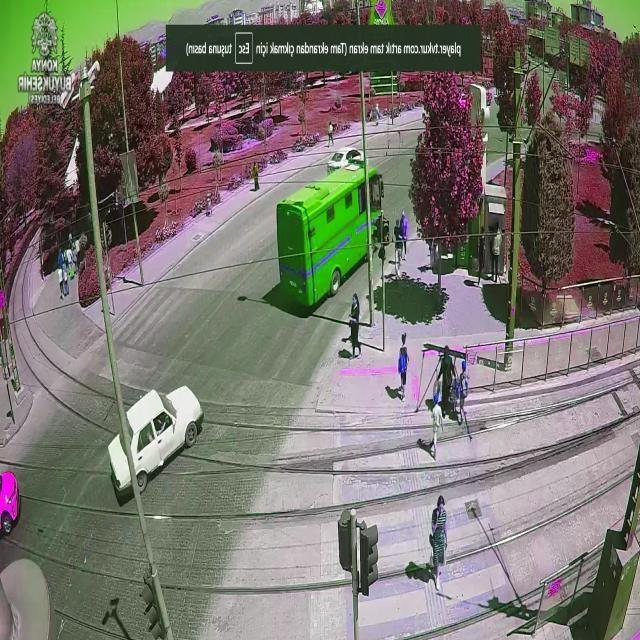Bus: (275, 157, 386, 306)
Car: (108, 385, 204, 501), (326, 146, 364, 174)
